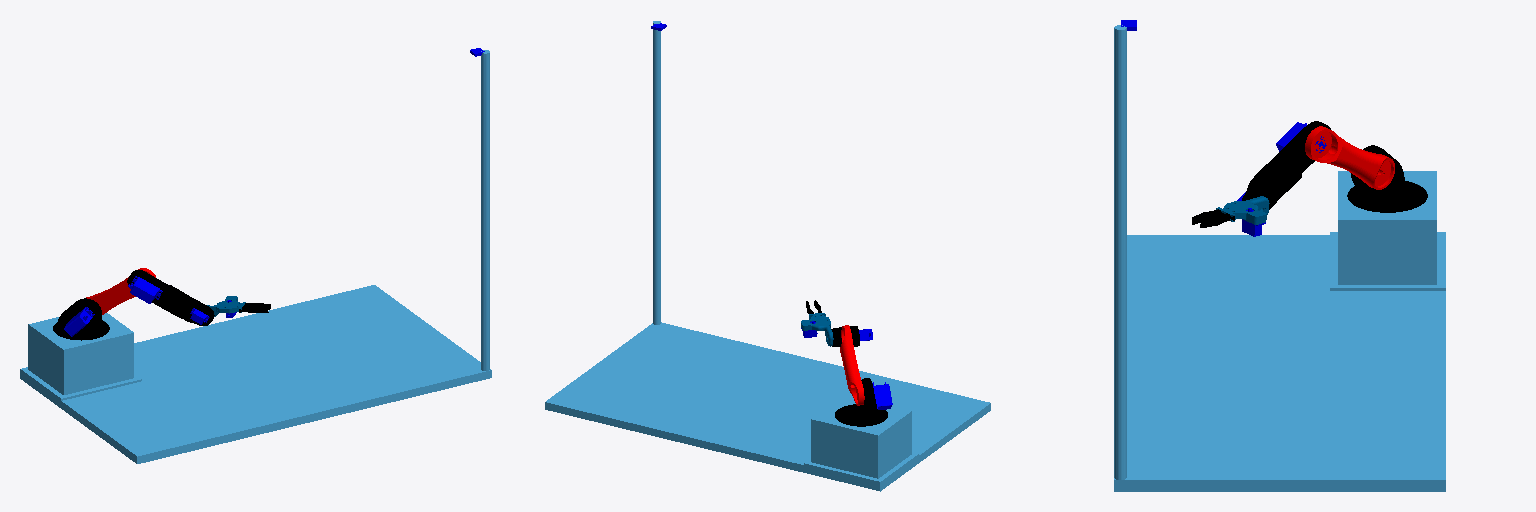
The robot description file, URDF, robot "robotic_arm":
<?xml version="1.0" ?>
<!-- =================================================================================== -->
<!-- |    This document was autogenerated by xacro from robotic_arm.xacro              | -->
<!-- |    EDITING THIS FILE BY HAND IS NOT RECOMMENDED                                 | -->
<!-- =================================================================================== -->
<robot name="robotic_arm">
  <material name="silver">
    <color rgba="0.0 0.4 0.6 1.0"/>
  </material>
  <material name="black">
    <color rgba="0.0 0.0 0.0 1.0"/>
  </material>
  <material name="red">
    <color rgba="1.0 0.0 0.0 1.0"/>
  </material>
  <material name="blue">
    <color rgba="0.0 0.0 1.0 1.0"/>
  </material>
  <transmission name="joint_1_tran">
    <type>transmission_interface/SimpleTransmission</type>
    <joint name="joint_1">
      <hardwareInterface>hardware_interface/EffortJointInterface</hardwareInterface>
    </joint>
    <actuator name="joint_1_actr">
      <hardwareInterface>hardware_interface/EffortJointInterface</hardwareInterface>
      <mechanicalReduction>1</mechanicalReduction>
    </actuator>
  </transmission>
  <transmission name="joint_2_tran">
    <type>transmission_interface/SimpleTransmission</type>
    <joint name="joint_2">
      <hardwareInterface>hardware_interface/EffortJointInterface</hardwareInterface>
    </joint>
    <actuator name="joint_2_actr">
      <hardwareInterface>hardware_interface/EffortJointInterface</hardwareInterface>
      <mechanicalReduction>1</mechanicalReduction>
    </actuator>
  </transmission>
  <transmission name="joint_3_tran">
    <type>transmission_interface/SimpleTransmission</type>
    <joint name="joint_3">
      <hardwareInterface>hardware_interface/EffortJointInterface</hardwareInterface>
    </joint>
    <actuator name="joint_3_actr">
      <hardwareInterface>hardware_interface/EffortJointInterface</hardwareInterface>
      <mechanicalReduction>1</mechanicalReduction>
    </actuator>
  </transmission>
  <transmission name="joint_4_tran">
    <type>transmission_interface/SimpleTransmission</type>
    <joint name="joint_4">
      <hardwareInterface>hardware_interface/EffortJointInterface</hardwareInterface>
    </joint>
    <actuator name="joint_4_actr">
      <hardwareInterface>hardware_interface/EffortJointInterface</hardwareInterface>
      <mechanicalReduction>1</mechanicalReduction>
    </actuator>
  </transmission>
  <transmission name="Slider 7_tran">
    <type>transmission_interface/SimpleTransmission</type>
    <joint name="Slider 7">
      <hardwareInterface>hardware_interface/EffortJointInterface</hardwareInterface>
    </joint>
    <actuator name="Slider 7_actr">
      <hardwareInterface>hardware_interface/EffortJointInterface</hardwareInterface>
      <mechanicalReduction>1</mechanicalReduction>
    </actuator>
  </transmission>
  <transmission name="Slider 8_tran">
    <type>transmission_interface/SimpleTransmission</type>
    <joint name="Slider 8">
      <hardwareInterface>hardware_interface/EffortJointInterface</hardwareInterface>
    </joint>
    <actuator name="Slider 8_actr">
      <hardwareInterface>hardware_interface/EffortJointInterface</hardwareInterface>
      <mechanicalReduction>1</mechanicalReduction>
    </actuator>
  </transmission>
  <gazebo>
    <plugin filename="libgazebo_ros2_control.so" name="control"/>
  </gazebo>
  <gazebo reference="base_link">
    <material>Gazebo/DarkGrey</material>
    <mu1>0.2</mu1>
    <mu2>0.2</mu2>
    <self_collide>true</self_collide>
    <gravity>true</gravity>
  </gazebo>
  <gazebo reference="waist">
    <material>Gazebo/Wood</material>
    <mu1>0.2</mu1>
    <mu2>0.2</mu2>
    <self_collide>true</self_collide>
  </gazebo>
  <gazebo reference="link_1">
    <material>Gazebo/Wood</material>
    <mu1>0.2</mu1>
    <mu2>0.2</mu2>
    <self_collide>true</self_collide>
  </gazebo>
  <gazebo reference="link_2a">
    <material>Gazebo/Wood</material>
    <mu1>0.2</mu1>
    <mu2>0.2</mu2>
    <self_collide>true</self_collide>
  </gazebo>
  <gazebo reference="link_2b">
    <material>Gazebo/Wood</material>
    <mu1>0.2</mu1>
    <mu2>0.2</mu2>
    <self_collide>true</self_collide>
  </gazebo>
  <gazebo reference="gripper_base">
    <material>Gazebo/Wood</material>
    <mu1>0.2</mu1>
    <mu2>0.2</mu2>
    <self_collide>true</self_collide>
  </gazebo>
  <gazebo reference="camera_link">
    <material>Gazebo/FlatBlack</material>
    <mu1>0.2</mu1>
    <mu2>0.2</mu2>
    <self_collide>true</self_collide>
  </gazebo>
  <gazebo reference="servomotormicro9g_v2_1">
    <material>Gazebo/Black</material>
    <mu1>0.2</mu1>
    <mu2>0.2</mu2>
    <self_collide>true</self_collide>
  </gazebo>
  <gazebo reference="servomotormg996r_v2_1">
    <material>Gazebo/Black</material>
    <mu1>0.2</mu1>
    <mu2>0.2</mu2>
    <self_collide>true</self_collide>
  </gazebo>
  <gazebo reference="servomotormicro9g_v2_2">
    <material>Gazebo/Black</material>
    <mu1>0.2</mu1>
    <mu2>0.2</mu2>
    <self_collide>true</self_collide>
  </gazebo>
  <gazebo reference="servomotormg996r_v2_2">
    <material>Gazebo/Black</material>
    <mu1>0.2</mu1>
    <mu2>0.2</mu2>
    <self_collide>true</self_collide>
  </gazebo>
  <gazebo reference="slidder_gripper_1">
    <material>Gazebo/DarkGrey</material>
    <mu1>0.2</mu1>
    <mu2>0.2</mu2>
    <self_collide>true</self_collide>
  </gazebo>
  <gazebo reference="slidder_gripper_2">
    <material>Gazebo/DarkGrey</material>
    <mu1>0.2</mu1>
    <mu2>0.2</mu2>
    <self_collide>true</self_collide>
  </gazebo>
  <link name="world"/>
  <link name="base_link">
    <inertial>
      <origin rpy="0 0 0" xyz="-0.018665097932950923 0.008373602393624096 0.020061176615408474"/>
      <mass value="37.446846482870264"/>
      <inertia ixx="0.651431" ixy="0.176946" ixz="-0.038541" iyy="1.819145" iyz="0.025331" izz="2.242189"/>
    </inertial>
    <visual>
      <origin rpy="0 0 0" xyz="0 0 0"/>
      <geometry>
        <mesh filename="package://robotic_arm_description/meshes/base_link.stl" scale="0.001 0.001 0.001"/>
      </geometry>
    </visual>
    <collision>
      <origin rpy="0 0 0" xyz="0 0 0"/>
      <geometry>
        <mesh filename="package://robotic_arm_description/meshes/base_link.stl" scale="0.001 0.001 0.001"/>
      </geometry>
    </collision>
  </link>
  <link name="waist">
    <inertial>
      <origin rpy="0 0 0" xyz="-0.004325137554017311 -0.006085387024749173 0.019240916153630563"/>
      <mass value="0.571710754468902"/>
      <inertia ixx="0.000465" ixy="6.7e-05" ixz="-0.0" iyy="0.000451" iyz="7.2e-05" izz="0.000465"/>
    </inertial>
    <visual>
      <origin rpy="0 0 0" xyz="0.27 -0.13 -0.101"/>
      <geometry>
        <mesh filename="package://robotic_arm_description/meshes/waist.stl" scale="0.001 0.001 0.001"/>
      </geometry>
      <material name="black"/>
    </visual>
    <collision>
      <origin rpy="0 0 0" xyz="0.27 -0.13 -0.101"/>
      <geometry>
        <mesh filename="package://robotic_arm_description/meshes/waist.stl" scale="0.001 0.001 0.001"/>
      </geometry>
    </collision>
  </link>
  <link name="link_1">
    <inertial>
      <origin rpy="0 0 0" xyz="0.03932970912597472 -0.0304951563107842 0.034414880490293676"/>
      <mass value="0.5075597700837723"/>
      <inertia ixx="0.000611" ixy="0.000272" ixz="-0.000242" iyy="0.000576" iyz="0.000258" izz="0.000579"/>
    </inertial>
    <visual>
      <origin rpy="0 0 0" xyz="0.2634 -0.117119 -0.14128"/>
      <geometry>
        <mesh filename="package://robotic_arm_description/meshes/link_1.stl" scale="0.001 0.001 0.001"/>
      </geometry>
      <material name="red"/>
    </visual>
    <collision>
      <origin rpy="0 0 0" xyz="0.2634 -0.117119 -0.14128"/>
      <geometry>
        <mesh filename="package://robotic_arm_description/meshes/link_1.stl" scale="0.001 0.001 0.001"/>
      </geometry>
    </collision>
  </link>
  <link name="link_2a">
    <inertial>
      <origin rpy="0 0 0" xyz="0.021760779101838823 -0.031526656195889166 -0.017698174049491033"/>
      <mass value="0.368736609571802"/>
      <inertia ixx="0.000284" ixy="0.000149" ixz="8.8e-05" iyy="0.00027" iyz="-9.2e-05" izz="0.000341"/>
    </inertial>
    <visual>
      <origin rpy="0 0 0" xyz="0.196144 -0.045431 -0.210109"/>
      <geometry>
        <mesh filename="package://robotic_arm_description/meshes/link_2a.stl" scale="0.001 0.001 0.001"/>
      </geometry>
      <material name="black"/>
    </visual>
    <collision>
      <origin rpy="0 0 0" xyz="0.196144 -0.045431 -0.210109"/>
      <geometry>
        <mesh filename="package://robotic_arm_description/meshes/link_2a.stl" scale="0.001 0.001 0.001"/>
      </geometry>
    </collision>
  </link>
  <link name="link_2b">
    <inertial>
      <origin rpy="0 0 0" xyz="0.0046871934926014935 -0.01758526636949733 -0.007526666944419946"/>
      <mass value="0.12768227270402752"/>
      <inertia ixx="2.7e-05" ixy="9e-06" ixz="4e-06" iyy="3.4e-05" iyz="-2e-06" izz="2.8e-05"/>
    </inertial>
    <visual>
      <origin rpy="0 0 0" xyz="0.134655 0.008416 -0.172179"/>
      <geometry>
        <mesh filename="package://robotic_arm_description/meshes/link_2b.stl" scale="0.001 0.001 0.001"/>
      </geometry>
      <material name="black"/>
    </visual>
    <collision>
      <origin rpy="0 0 0" xyz="0.134655 0.008416 -0.172179"/>
      <geometry>
        <mesh filename="package://robotic_arm_description/meshes/link_2b.stl" scale="0.001 0.001 0.001"/>
      </geometry>
    </collision>
  </link>
  <link name="gripper_base">
    <inertial>
      <origin rpy="0 0 0" xyz="0.027529630324851395 -0.01204235810533322 0.00914814783980572"/>
      <mass value="0.14749809489819876"/>
      <inertia ixx="3.6e-05" ixy="1.7e-05" ixz="-1.3e-05" iyy="5.9e-05" iyz="8e-06" izz="7.8e-05"/>
    </inertial>
    <visual>
      <origin rpy="0 0 0" xyz="0.117292 0.026923 -0.160346"/>
      <geometry>
        <mesh filename="package://robotic_arm_description/meshes/gripper_base.stl" scale="0.001 0.001 0.001"/>
      </geometry>
      <material name="silver"/>
    </visual>
    <collision>
      <origin rpy="0 0 0" xyz="0.117292 0.026923 -0.160346"/>
      <geometry>
        <mesh filename="package://robotic_arm_description/meshes/gripper_base.stl" scale="0.001 0.001 0.001"/>
      </geometry>
    </collision>
  </link>
  <link name="slider_slot">
    <inertial>
      <origin rpy="0 0 0" xyz="0.0013722494188505852 -0.001463236933399198 0.0001750716067638325"/>
      <mass value="0.004356750035092236"/>
      <inertia ixx="0.0" ixy="-0.0" ixz="0.0" iyy="0.0" iyz="-0.0" izz="0.0"/>
    </inertial>
    <visual>
      <origin rpy="0 0 0" xyz="0.066181 0.063863 -0.17555"/>
      <geometry>
        <mesh filename="package://robotic_arm_description/meshes/slider_slot.stl" scale="0.001 0.001 0.001"/>
      </geometry>
      <material name="silver"/>
    </visual>
    <collision>
      <origin rpy="0 0 0" xyz="0.066181 0.063863 -0.17555"/>
      <geometry>
        <mesh filename="package://robotic_arm_description/meshes/slider_slot.stl" scale="0.001 0.001 0.001"/>
      </geometry>
    </collision>
  </link>
  <link name="slidder_gripper_1">
    <inertial>
      <origin rpy="0 0 0" xyz="0.020937593705417333 -0.013012654159922518 0.0020833272549800885"/>
      <mass value="0.017151155514247545"/>
      <inertia ixx="2e-06" ixy="2e-06" ixz="-0.0" iyy="2e-06" iyz="0.0" izz="4e-06"/>
    </inertial>
    <visual>
      <origin rpy="0 0 0" xyz="0.076439 0.074853 -0.175637"/>
      <geometry>
        <mesh filename="package://robotic_arm_description/meshes/slidder_gripper_1.stl" scale="0.001 0.001 0.001"/>
      </geometry>
      <material name="motor_color">
        <color rgba="0.0 0.0 0.0 1.0"/>
      </material>
    </visual>
    <collision>
      <origin rpy="0 0 0" xyz="0.076439 0.074853 -0.175637"/>
      <geometry>
        <mesh filename="package://robotic_arm_description/meshes/slidder_gripper_1.stl" scale="0.001 0.001 0.001"/>
      </geometry>
    </collision>
  </link>
  <link name="slidder_gripper_2">
    <inertial>
      <origin rpy="0 0 0" xyz="0.011651774683778773 -0.021723927124737863 0.0020833272549800608"/>
      <mass value="0.017151155514247545"/>
      <inertia ixx="2e-06" ixy="2e-06" ixz="-0.0" iyy="2e-06" iyz="0.0" izz="4e-06"/>
    </inertial>
    <visual>
      <origin rpy="0 0 0" xyz="0.05456 0.054327 -0.175637"/>
      <geometry>
        <mesh filename="package://robotic_arm_description/meshes/slidder_gripper_2.stl" scale="0.001 0.001 0.001"/>
      </geometry>
      <material name="">
        <color rgba="0.0 0.0 0.0 1.0"/>
      </material>
    </visual>
    <collision>
      <origin rpy="0 0 0" xyz="0.05456 0.054327 -0.175637"/>
      <geometry>
        <mesh filename="package://robotic_arm_description/meshes/slidder_gripper_2.stl" scale="0.001 0.001 0.001"/>
      </geometry>
    </collision>
  </link>
  <link name="camera_link">
    <inertial>
      <origin rpy="0 0 0" xyz="-0.01000000000000012 0.009999999999999981 -0.0024999999999999467"/>
      <mass value="0.015699999999999995"/>
      <inertia ixx="1e-06" ixy="0.0" ixz="0.0" iyy="1e-06" iyz="-0.0" izz="1e-06"/>
    </inertial>
    <visual>
      <origin rpy="0 0 0" xyz="-0.3425 0.1925 -0.615"/>
      <geometry>
        <mesh filename="package://robotic_arm_description/meshes/camera_link.stl" scale="0.001 0.001 0.001"/>
      </geometry>
      <material name="blue"/>
    </visual>
    <collision>
      <origin rpy="0 0 0" xyz="-0.3425 0.1925 -0.615"/>
      <geometry>
        <mesh filename="package://robotic_arm_description/meshes/camera_link.stl" scale="0.001 0.001 0.001"/>
      </geometry>
    </collision>
  </link>
  <link name="servomotormicro9g_v2_1">
    <inertial>
      <origin rpy="0 0 0" xyz="0.004246784236529702 0.002300076771489329 -0.01403736470537334"/>
      <mass value="0.05595068017526718"/>
      <inertia ixx="4e-06" ixy="-1e-06" ixz="0.0" iyy="5e-06" iyz="0.0" izz="3e-06"/>
    </inertial>
    <visual>
      <origin rpy="0 0 0" xyz="0.073248 0.036015 -0.17611"/>
      <geometry>
        <mesh filename="package://robotic_arm_description/meshes/servomotormicro9g_v2_1.stl" scale="0.001 0.001 0.001"/>
      </geometry>
      <material name="blue"/>
    </visual>
    <collision>
      <origin rpy="0 0 0" xyz="0.073248 0.036015 -0.17611"/>
      <geometry>
        <mesh filename="package://robotic_arm_description/meshes/servomotormicro9g_v2_1.stl" scale="0.001 0.001 0.001"/>
      </geometry>
    </collision>
  </link>
  <link name="servomotormicro9g_v2_2">
    <inertial>
      <origin rpy="0 0 0" xyz="-0.013173285358933598 -0.0065534501953197245 0.0019739894599794805"/>
      <mass value="0.05595068017526718"/>
      <inertia ixx="3e-06" ixy="-0.0" ixz="1e-06" iyy="4e-06" iyz="-0.0" izz="5e-06"/>
    </inertial>
    <visual>
      <origin rpy="0 0 0" xyz="0.118386 0.02795 -0.160346"/>
      <geometry>
        <mesh filename="package://robotic_arm_description/meshes/servomotormicro9g_v2_2.stl" scale="0.001 0.001 0.001"/>
      </geometry>
      <material name="blue"/>
    </visual>
    <collision>
      <origin rpy="0 0 0" xyz="0.118386 0.02795 -0.160346"/>
      <geometry>
        <mesh filename="package://robotic_arm_description/meshes/servomotormicro9g_v2_2.stl" scale="0.001 0.001 0.001"/>
      </geometry>
    </collision>
  </link>
  <link name="servomotormg996r_v2_1">
    <inertial>
      <origin rpy="0 0 0" xyz="-0.023970472531686826 0.010854967398329491 0.005821878031642358"/>
      <mass value="0.2658706317147462"/>
      <inertia ixx="5.1e-05" ixy="-2e-06" ixz="7e-06" iyy="4.7e-05" iyz="-9e-06" izz="7e-05"/>
    </inertial>
    <visual>
      <origin rpy="0 0 0" xyz="0.181171 -0.013395 -0.199955"/>
      <geometry>
        <mesh filename="package://robotic_arm_description/meshes/servomotormg996r_v2_1.stl" scale="0.001 0.001 0.001"/>
      </geometry>
      <material name="blue"/>
    </visual>
    <collision>
      <origin rpy="0 0 0" xyz="0.181171 -0.013395 -0.199955"/>
      <geometry>
        <mesh filename="package://robotic_arm_description/meshes/servomotormg996r_v2_1.stl" scale="0.001 0.001 0.001"/>
      </geometry>
    </collision>
  </link>
  <link name="servomotormg996r_v2_2">
    <inertial>
      <origin rpy="0 0 0" xyz="-0.002373320488633479 -0.02181114979206003 0.014282327800950845"/>
      <mass value="0.2658706317147462"/>
      <inertia ixx="5.2e-05" ixy="-7e-06" ixz="-1.1e-05" iyy="5.6e-05" iyz="1e-05" izz="6.1e-05"/>
    </inertial>
    <visual>
      <origin rpy="0 0 0" xyz="0.288487 -0.123397 -0.119537"/>
      <geometry>
        <mesh filename="package://robotic_arm_description/meshes/servomotormg996r_v2_2.stl" scale="0.001 0.001 0.001"/>
      </geometry>
      <material name="blue"/>
    </visual>
    <collision>
      <origin rpy="0 0 0" xyz="0.288487 -0.123397 -0.119537"/>
      <geometry>
        <mesh filename="package://robotic_arm_description/meshes/servomotormg996r_v2_2.stl" scale="0.001 0.001 0.001"/>
      </geometry>
    </collision>
  </link>
  <joint name="fixed" type="fixed">
    <parent link="world"/>
    <child link="base_link"/>
  </joint>
  <joint name="joint_1" type="revolute">
    <origin rpy="0 0 0" xyz="-0.27 0.13 0.101"/>
    <parent link="base_link"/>
    <child link="waist"/>
    <dynamics dumping="10.0" friction="2.0"/>
    <axis xyz="0.0 0.0 1.0"/>
    <limit effort="100" lower="-1.570796" upper="1.570796" velocity="100"/>
  </joint>
  <joint name="joint_2" type="revolute">
    <origin rpy="0 0 0" xyz="0.0066 -0.012881 0.04028"/>
    <parent link="waist"/>
    <child link="link_1"/>
    <dynamics dumping="10.0" friction="2.0"/>
    <axis xyz="-0.729288 -0.684207 0.0"/>
    <limit effort="100" lower="-1.570796" upper="1.570796" velocity="100"/>
  </joint>
  <joint name="joint_3" type="revolute">
    <origin rpy="0 0 0" xyz="0.067256 -0.071688 0.068829"/>
    <parent link="link_1"/>
    <child link="link_2a"/>
    <dynamics dumping="10.0" friction="2.0"/>
    <axis xyz="0.729288 0.684207 -0.0"/>
    <limit effort="100" lower="-1.570796" upper="1.570796" velocity="100"/>
  </joint>
  <joint name="Rigid 4" type="fixed">
    <origin rpy="0 0 0" xyz="0.061489 -0.053847 -0.03793"/>
    <parent link="link_2a"/>
    <child link="link_2b"/>
  </joint>
  <joint name="joint_4" type="revolute">
    <origin rpy="0 0 0" xyz="0.017363 -0.018507 -0.011833"/>
    <parent link="link_2b"/>
    <child link="gripper_base"/>
    <dynamics dumping="10.0" friction="2.0"/>
    <axis xyz="-0.729288 -0.684207 0.0"/>
    <limit effort="100" lower="-1.570796" upper="1.570796" velocity="100"/>
  </joint>
  <joint name="Rigid 6" type="fixed">
    <origin rpy="0 0 0" xyz="0.051111 -0.03694 0.015204"/>
    <parent link="gripper_base"/>
    <child link="slider_slot"/>
  </joint>
  <joint name="left_gripper_finger_joint" type="prismatic">
    <origin rpy="0 0 0" xyz="-0.010258 -0.01099 8.7e-05"/>
    <parent link="slider_slot"/>
    <child link="slidder_gripper_1"/>
    <dynamics dumping="10.0" friction="2.0"/>
    <axis xyz="-0.729288 -0.684207 0.0"/>
    <limit effort="100" lower="-0.008" upper="0.0" velocity="100"/>
  </joint>
  <joint name="right_gripper_finger_joint" type="prismatic">
    <origin rpy="0 0 0" xyz="0.011621 0.009536 8.7e-05"/>
    <parent link="slider_slot"/>
    <child link="slidder_gripper_2"/>
    <dynamics dumping="10.0" friction="2.0"/>
    <axis xyz="0.729288 0.684207 -0.0"/>
    <limit effort="100" lower="-0.008" upper="0.0" velocity="100"/>
  </joint>
  <joint name="Rigid 9" type="fixed">
    <origin rpy="0 0 0" xyz="0.3425 -0.1925 0.615"/>
    <parent link="base_link"/>
    <child link="camera_link"/>
  </joint>
  <joint name="Rigid 10" type="fixed">
    <origin rpy="0 0 0" xyz="0.044044 -0.009092 0.015764"/>
    <parent link="gripper_base"/>
    <child link="servomotormicro9g_v2_1"/>
  </joint>
  <joint name="Rigid 11" type="fixed">
    <origin rpy="0 0 0" xyz="0.016269 -0.019534 -0.011833"/>
    <parent link="link_2b"/>
    <child link="servomotormicro9g_v2_2"/>
  </joint>
  <joint name="Rigid 12" type="fixed">
    <origin rpy="0 0 0" xyz="0.014973 -0.032036 -0.010154"/>
    <parent link="link_2a"/>
    <child link="servomotormg996r_v2_1"/>
  </joint>
  <joint name="Rigid 13" type="fixed">
    <origin rpy="0 0 0" xyz="-0.018487 -0.006603 0.018537"/>
    <parent link="waist"/>
    <child link="servomotormg996r_v2_2"/>
  </joint>
  <!-- Gazebo Plugin -->
  <gazebo>
    <plugin filename="libgazebo_ros2_control.so" name="gazebo_ros2_control">
      <robot_param>robot_description</robot_param>
      <robot_param_node>robot_state_publisher</robot_param_node>
      <parameters>[local-path]/ai_based_sorting_robot_arm/src/robotic_arm_bringup/config/controller_configuration.yaml</parameters>
    </plugin>
  </gazebo>
  <!-- Ros2 Control -->
  <ros2_control name="GazeboSystem" type="system">
    <hardware>
      <plugin>gazebo_ros2_control/GazeboSystem</plugin>
    </hardware>
    <joint name="joint_1">
      <command_interface name="position">
        <param name="min">-3.14</param>
        <param name="max">3.14</param>
      </command_interface>
      <command_interface name="velocity">
        <param name="min">-3.15</param>
        <param name="max">3.15</param>
      </command_interface>
      <state_interface name="position"/>
      <state_interface name="velocity"/>
      <state_interface name="effort"/>
      <param name="initial_position">0.0</param>
    </joint>
    <joint name="joint_2">
      <command_interface name="position">
        <param name="min">-3.14</param>
        <param name="max">3.14</param>
      </command_interface>
      <command_interface name="velocity">
        <param name="min">-3.15</param>
        <param name="max">3.15</param>
      </command_interface>
      <state_interface name="position"/>
      <state_interface name="velocity"/>
      <state_interface name="effort"/>
      <param name="initial_position">-1.57</param>
    </joint>
    <joint name="joint_3">
      <command_interface name="position">
        <param name="min">-3.14</param>
        <param name="max">3.14</param>
      </command_interface>
      <command_interface name="velocity">
        <param name="min">-3.15</param>
        <param name="max">3.15</param>
      </command_interface>
      <state_interface name="position"/>
      <state_interface name="velocity"/>
      <state_interface name="effort"/>
      <param name="initial_position">0.0</param>
    </joint>
    <joint name="joint_4">
      <command_interface name="position">
        <param name="min">-3.14</param>
        <param name="max">3.14</param>
      </command_interface>
      <command_interface name="velocity">
        <param name="min">-3.2</param>
        <param name="max">3.2</param>
      </command_interface>
      <state_interface name="position"/>
      <state_interface name="velocity"/>
      <state_interface name="effort"/>
      <param name="initial_position">-1.57</param>
    </joint>
    <joint name="left_gripper_finger_joint">
      <command_interface name="position">
        <param name="min">-0.008</param>
        <param name="max">0.0</param>
      </command_interface>
      <command_interface name="velocity">
        <param name="min">-0.01</param>
        <param name="max">0.1</param>
      </command_interface>
      <state_interface name="position"/>
      <state_interface name="velocity"/>
      <state_interface name="effort"/>
      <param name="initial_position">-0.008</param>
    </joint>
    <joint name="right_gripper_finger_joint">
      <command_interface name="position">
        <param name="min">-0.008</param>
        <param name="max">0.0</param>
      </command_interface>
      <command_interface name="velocity">
        <param name="min">-0.01</param>
        <param name="max">0.1</param>
      </command_interface>
      <state_interface name="position"/>
      <state_interface name="velocity"/>
      <state_interface name="effort"/>
      <param name="initial_position">-0.008</param>
    </joint>
  </ros2_control>
</robot>

--- Facts derived from the render (not from the file) ---
Views: 3 orthographic renders of the robot side by side, from view 1: azimuth 30°, elevation 25°; view 2: azimuth 150°, elevation 25°; view 3: azimuth 270°, elevation 25°.
Robot: robotic_arm — 15 links, 14 joints (4 revolute, 2 prismatic, 8 fixed); root link world; default pose: every joint at zero.
Visible links, largest first — view 1: base_link, waist, link_2a, link_1, servomotormg996r_v2_1; view 2: base_link, waist, link_1; view 3: base_link, link_1, waist, link_2a, gripper_base.
Link boxes in pixels (<box>): base_link: <box>20,50,491,463</box>; waist: <box>53,298,109,340</box>; link_2a: <box>127,270,193,318</box>; link_1: <box>86,268,155,314</box>; servomotormg996r_v2_1: <box>128,276,162,303</box>; base_link: <box>545,21,990,491</box>; waist: <box>835,378,887,426</box>; link_1: <box>840,325,864,405</box>; base_link: <box>1114,25,1445,491</box>; link_1: <box>1305,126,1394,189</box>; waist: <box>1347,145,1427,212</box>; link_2a: <box>1254,121,1330,200</box>; gripper_base: <box>1223,196,1269,224</box>.
Size in the robot's own frame: 0.7 by 0.4 by 0.615 metres.
14 mesh visuals loaded from 14 distinct referenced files (14 binary STL).